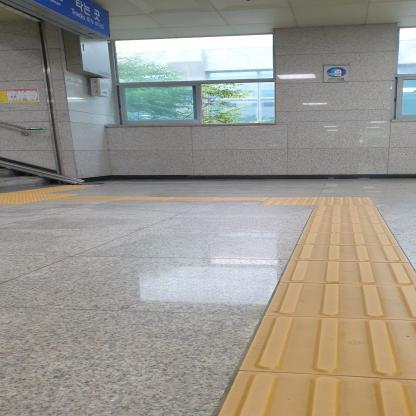go: (239, 315, 416, 380), (263, 282, 416, 320), (279, 260, 416, 285), (289, 244, 411, 263), (296, 233, 401, 246)
